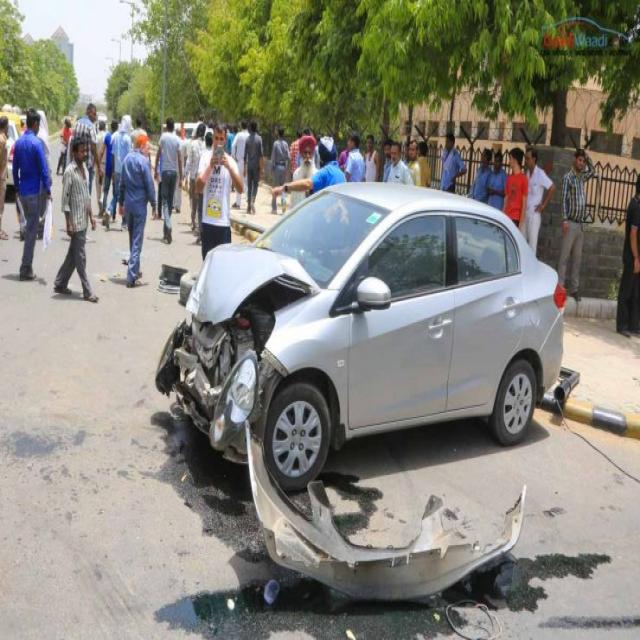accident: (156, 183, 565, 599)
